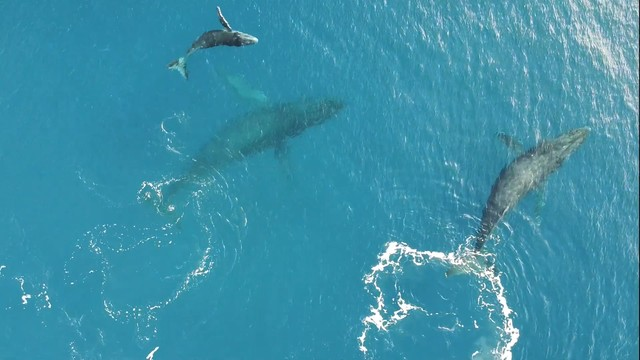whale: (135, 67, 365, 232), (439, 109, 598, 290), (157, 3, 266, 85)
